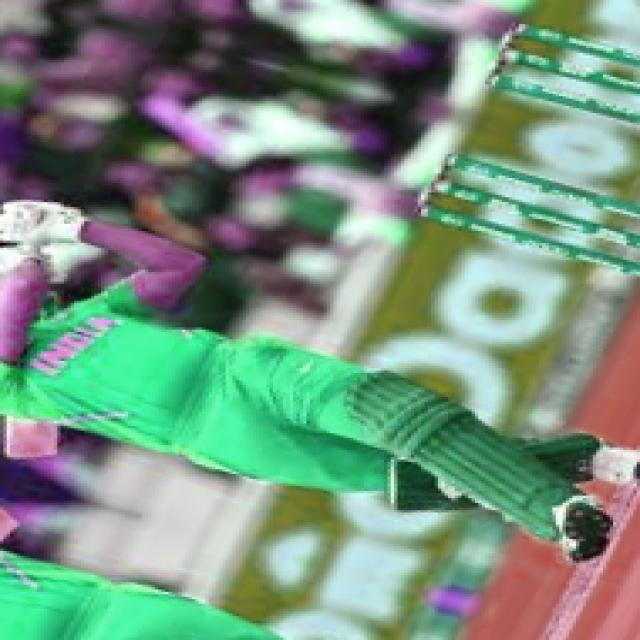toe: (3, 441, 64, 468)
